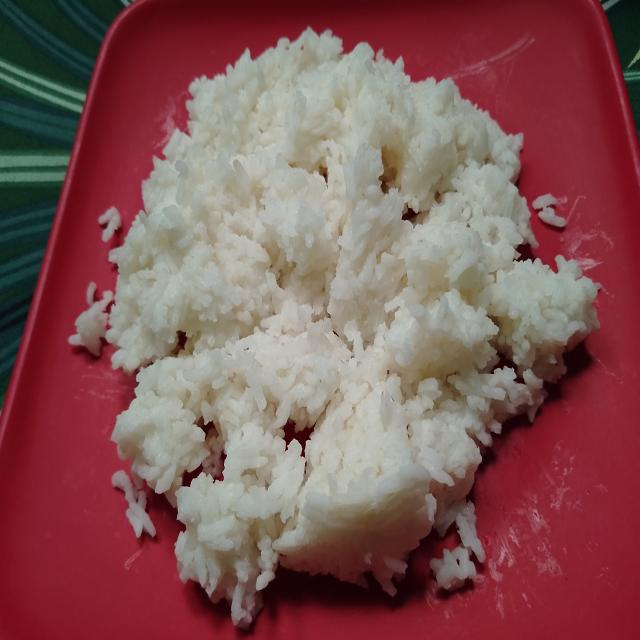Chicken -Chicken Inasal-: (55, 19, 600, 638)
